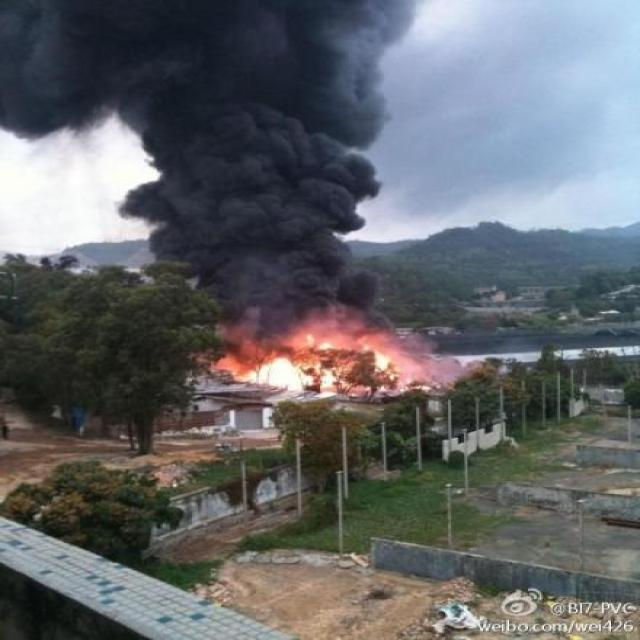Fire: (214, 332, 432, 401)
Smoke: (2, 2, 472, 390)
